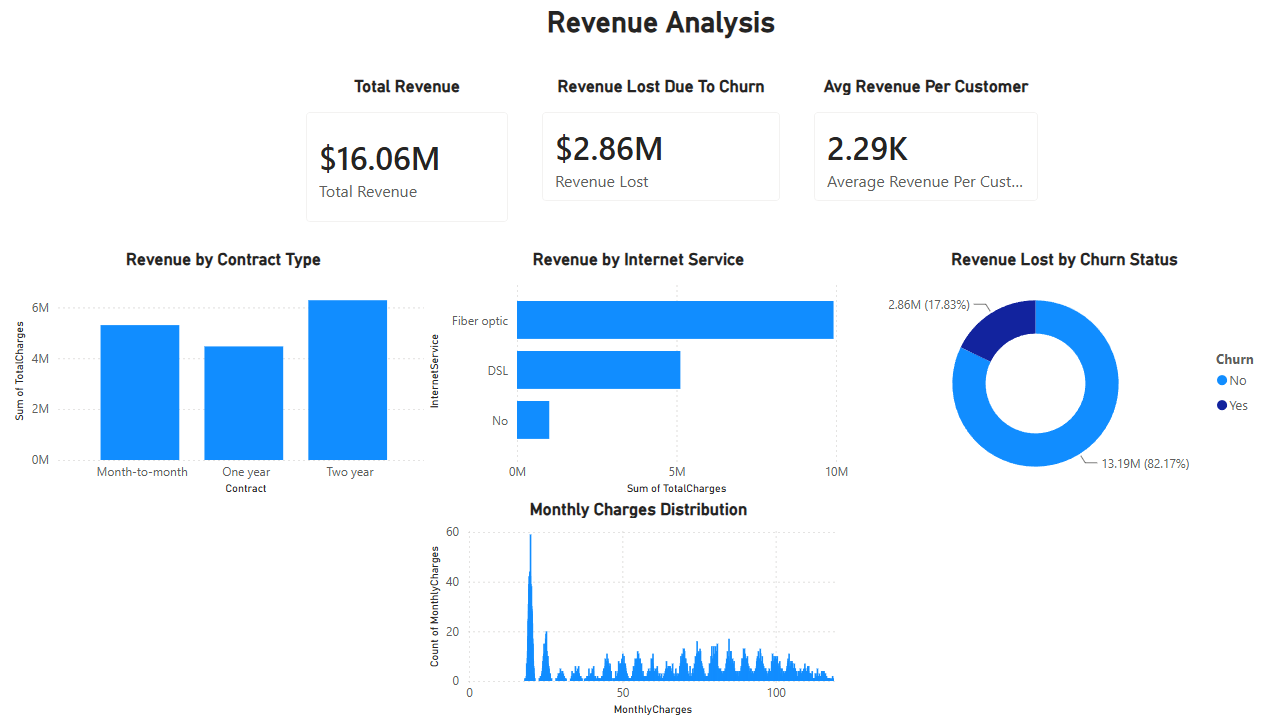

What the dashboard file says about the page in this screenshot:
{"tool":"powerbi","page":{"name":"Revenue Analysis","canvas":[1280,720],"ordinal":2},"visuals":[{"type":"cardVisual","title":"Total Revenue","fields":{"Data":["Churn_Dashboard_Data.Total Revenue"]},"box":[290,76.2,236.2,162.5],"z":0},{"type":"cardVisual","title":"Revenue Lost Due To Churn","fields":{"Data":["Churn_Dashboard_Data.Revenue Lost"]},"box":[526.2,76.2,271.2,141.2],"z":1000},{"type":"cardVisual","title":"Avg Revenue Per Customer","fields":{"Data":["Churn_Dashboard_Data.Average Revenue Per Customer"]},"box":[797.5,76.2,258.8,141.2],"z":2000},{"type":"clusteredColumnChart","title":"Revenue by Contract Type","fields":{"Category":["Churn_Dashboard_Data.Contract"],"Y":["Sum(Churn_Dashboard_Data.TotalCharges)"]},"box":[10,248.8,428.8,250],"z":3000},{"type":"clusteredBarChart","title":"Revenue by Internet Service","fields":{"Category":["Churn_Dashboard_Data.InternetService"],"Y":["Sum(Churn_Dashboard_Data.TotalCharges)"]},"box":[425,248.8,428.8,250],"z":4000},{"type":"donutChart","title":"Revenue Lost by Churn Status","fields":{"Category":["Churn_Dashboard_Data.Churn"],"Y":["Sum(Churn_Dashboard_Data.TotalCharges)"]},"box":[851.2,248.8,428.8,250],"z":5000},{"type":"columnChart","title":"Monthly Charges Distribution","fields":{"Category":["Churn_Dashboard_Data.MonthlyCharges"],"Y":["CountNonNull(Churn_Dashboard_Data.MonthlyCharges)"]},"box":[425,498.8,428.8,221.2],"z":6000},{"type":"textbox","box":[446.2,0,431.2,62.5],"z":7000}]}

Visuals, with their boxes in screenshot pixels (x1, y1, x2, y2), scaled from the page's 1280x720 canvas onto the 1278x717 screenshot:
"Total Revenue" cardVisual: BBox(290, 76, 525, 238)
"Revenue Lost Due To Churn" cardVisual: BBox(525, 76, 796, 216)
"Avg Revenue Per Customer" cardVisual: BBox(796, 76, 1055, 216)
"Revenue by Contract Type" clusteredColumnChart: BBox(10, 248, 438, 497)
"Revenue by Internet Service" clusteredBarChart: BBox(424, 248, 852, 497)
"Revenue Lost by Churn Status" donutChart: BBox(850, 248, 1277, 497)
"Monthly Charges Distribution" columnChart: BBox(424, 497, 852, 716)
textbox: BBox(446, 0, 876, 62)
